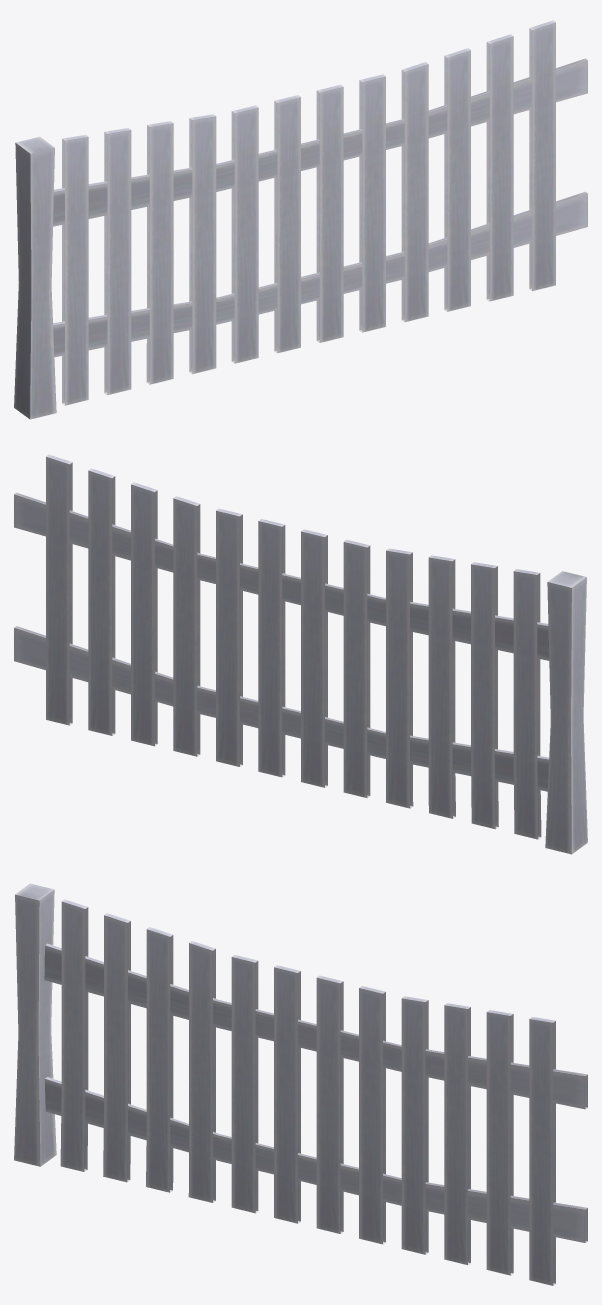
File: INST_HTOWN_FENCEWHT00DEG.fbx
3 renders of one model, top to bottom at view 1: azimuth 30°, elevation 25°; view 2: azimuth 150°, elevation 25°; view 3: azimuth 330°, elevation 25°, orthographic.
Visible parts, largest first — view 1: INST_HTOWN_FENCEWHT00DEG; view 2: INST_HTOWN_FENCEWHT00DEG; view 3: INST_HTOWN_FENCEWHT00DEG.
Part boxes in pixels (x1,y1,x2,y2): INST_HTOWN_FENCEWHT00DEG: (14,20,587,419); INST_HTOWN_FENCEWHT00DEG: (14,454,587,854); INST_HTOWN_FENCEWHT00DEG: (14,883,587,1285).
Bounding box in the file's own units: 30448 × 13708 × 1509.
2 materials, 2 textured.
